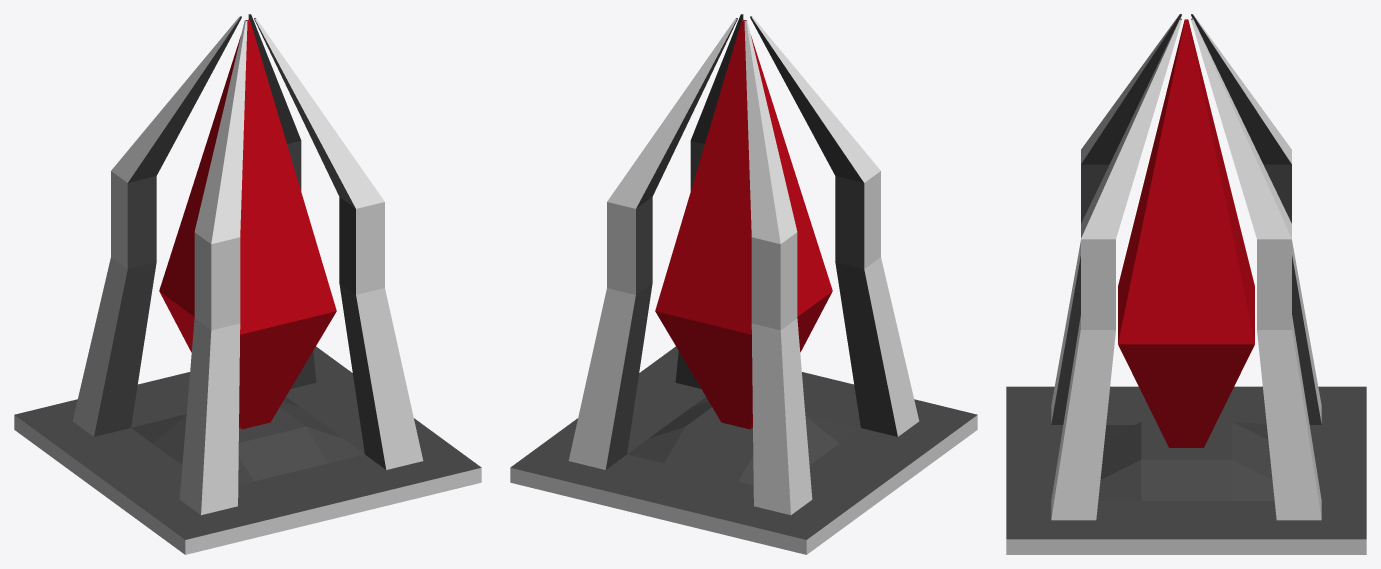
File: redLaser.fbx
3 views of the same model, side by side, from view 1: azimuth 30°, elevation 25°; view 2: azimuth 150°, elevation 25°; view 3: azimuth 270°, elevation 25° (orthographic). The views are drawn at different scales.
Visible parts, largest first — view 1: Cube.001, Cube; view 2: Cube.001, Cube; view 3: Cube.001, Cube.
Part boxes in pixels (<box>): Cube.001: <box>14,14,481,554</box>; Cube: <box>159,20,336,429</box>; Cube.001: <box>510,14,977,554</box>; Cube: <box>655,20,832,429</box>; Cube.001: <box>1006,14,1366,554</box>; Cube: <box>1118,19,1254,447</box>.
Size of the model in its own units: 200 by 283 by 200.
